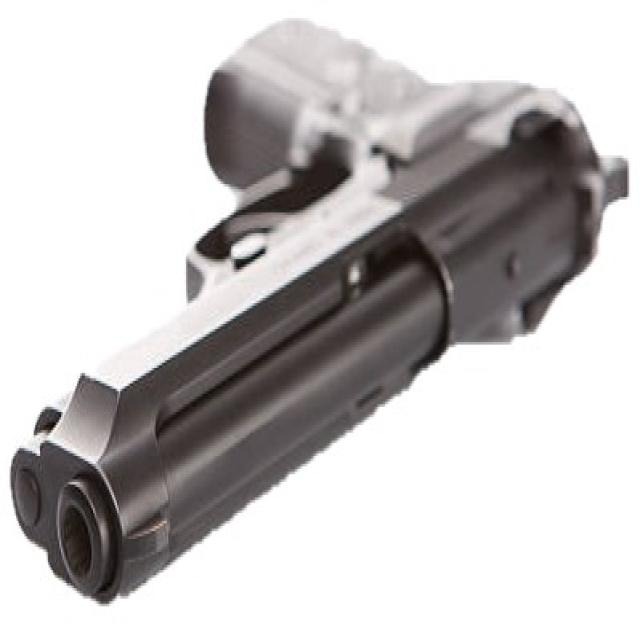pistol: (9, 1, 640, 619)
